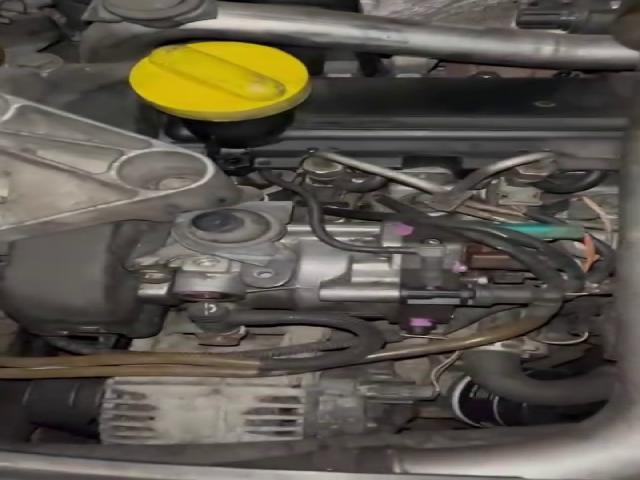alternator: (99, 373, 316, 444)
high_pressure_pump: (135, 222, 468, 333)
